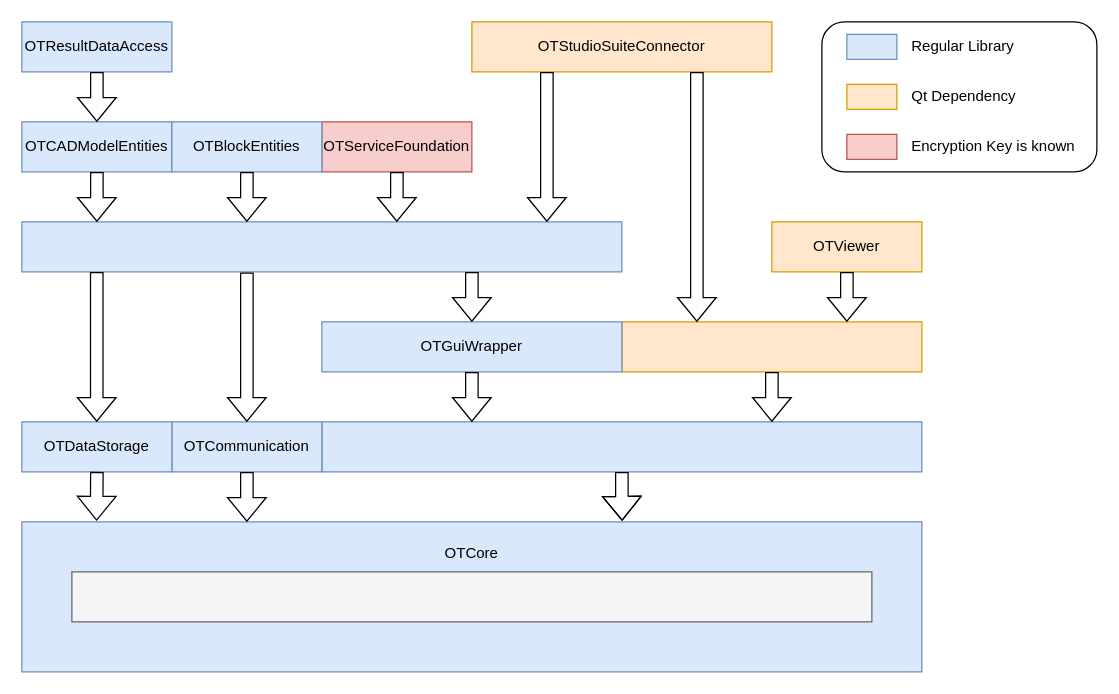
The diagram is 1119 pixels wide and 694 high, and some of its shapes have lost their labels. Here are the shapes that lost their labels. From the top down, the centre of each, then its label:
At point (321, 246): "OTModelEntities".
At point (771, 346): "OTWidgets".
At point (621, 446): "OTGui".
At point (471, 596): "OTSystem".
